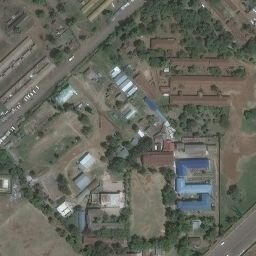tree: (226, 184, 242, 199), (49, 48, 62, 65), (58, 185, 72, 195), (77, 113, 89, 124), (198, 8, 210, 19), (164, 207, 176, 217), (232, 68, 246, 76), (207, 66, 221, 74), (57, 174, 68, 184), (81, 126, 91, 136), (134, 39, 144, 49), (63, 104, 75, 112), (178, 112, 188, 121), (219, 114, 228, 124), (49, 9, 57, 20), (183, 104, 194, 112), (225, 215, 236, 223), (214, 21, 223, 30), (65, 18, 75, 26), (187, 119, 197, 127), (57, 5, 66, 13), (102, 9, 112, 16), (48, 35, 56, 43), (116, 101, 124, 109), (35, 10, 44, 17), (105, 135, 114, 142), (74, 205, 82, 212), (105, 149, 113, 156), (64, 47, 71, 54), (37, 131, 44, 138), (100, 141, 107, 148), (122, 141, 130, 147), (188, 66, 196, 72), (78, 35, 87, 40), (85, 107, 92, 113), (132, 124, 139, 130), (91, 27, 97, 32), (75, 136, 81, 141), (51, 19, 56, 24), (180, 122, 185, 127), (43, 25, 49, 29), (66, 145, 70, 149), (71, 141, 75, 144), (48, 117, 52, 120)
